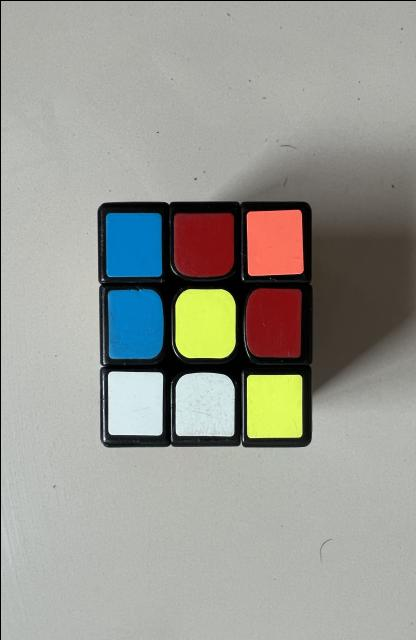Blue: (107, 289, 162, 358), (105, 211, 161, 276)
Orange: (246, 209, 303, 275)
Red: (172, 211, 233, 276), (245, 288, 301, 356)
White: (174, 371, 234, 435), (107, 370, 162, 435)
Yellow: (174, 288, 235, 358), (246, 374, 301, 438)
